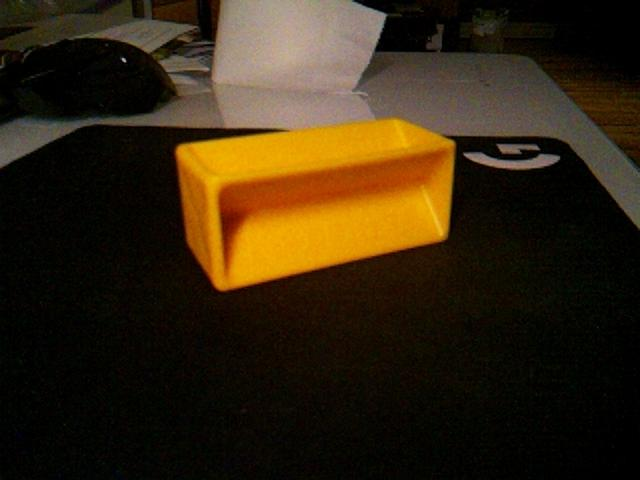yellow: (174, 116, 457, 293)
